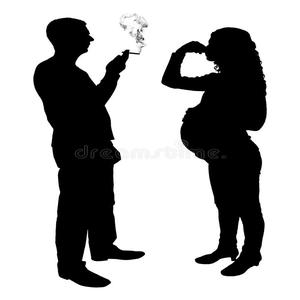cigarette: (121, 50, 141, 57)
